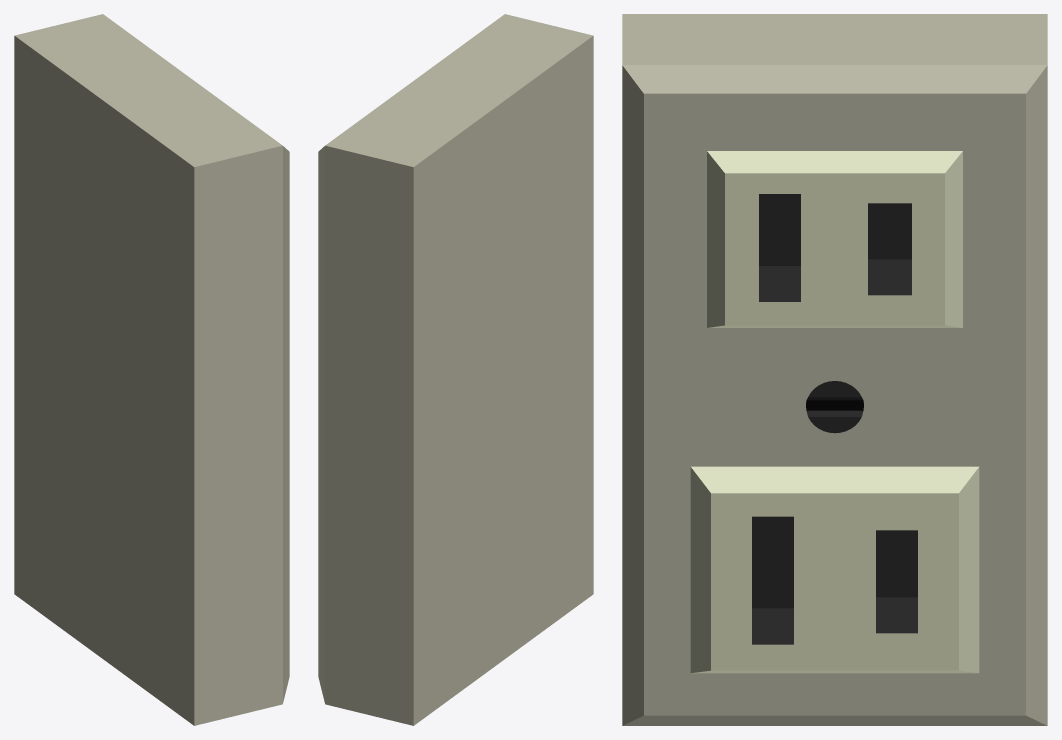
Rendered from OutLet.fbx.
The picture shows the model from 3 angles, left to right: view 1: azimuth 30°, elevation 25°; view 2: azimuth 150°, elevation 25°; view 3: azimuth 270°, elevation 25°; orthographic projection. The views are drawn at different scales.
Parts seen in each view (by area): view 1: OutLet; view 2: OutLet; view 3: OutLet.
Part boxes in pixels (x1,y1,x2,y2): OutLet: [14, 14, 289, 725]; OutLet: [318, 14, 593, 725]; OutLet: [622, 14, 1047, 725].
Size of the model in its own units: 2.81 by 12 by 7.
